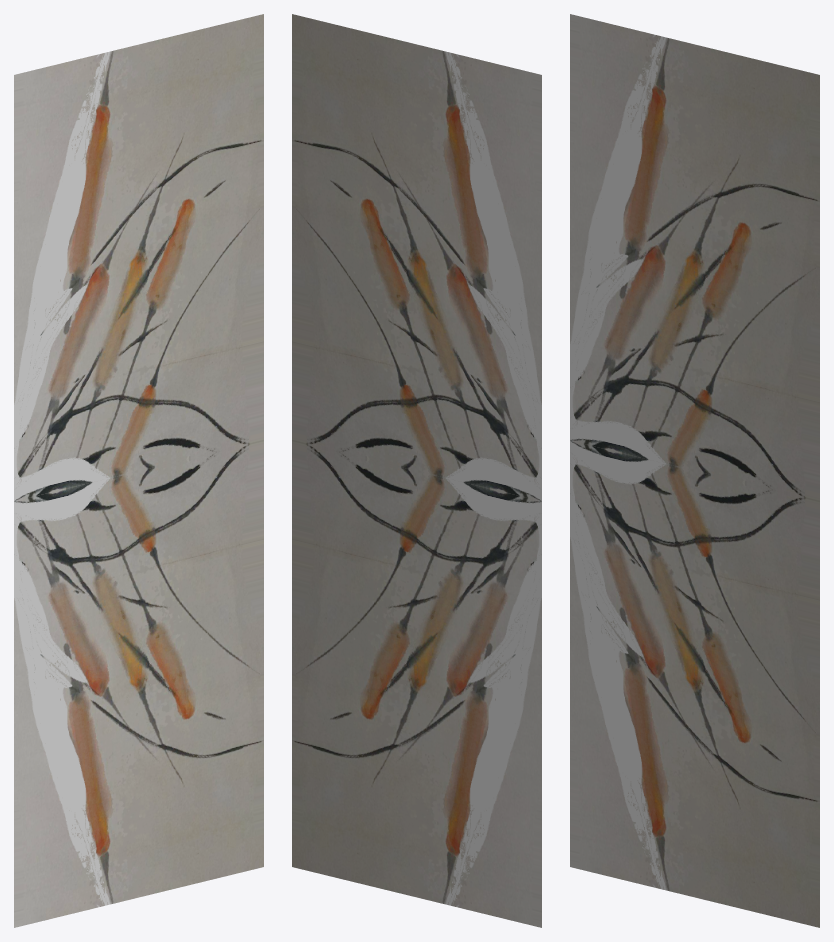
Rendered from PPX_REED6.fbx.
The picture shows the model from 3 angles, left to right: view 1: azimuth 30°, elevation 25°; view 2: azimuth 150°, elevation 25°; view 3: azimuth 330°, elevation 25°; orthographic projection.
Parts seen in each view (by area): view 1: 图层 14.png, 图层 14.png_2; view 2: 图层 14.png, 图层 14.png_2; view 3: 图层 14.png, 图层 14.png_2.
Boxes of the visible parts, x1,y1,x2,y2 form: 图层 14.png: (14,14,263,501); 图层 14.png_2: (14,440,263,927); 图层 14.png: (292,14,541,501); 图层 14.png_2: (292,440,541,927); 图层 14.png: (570,14,819,501); 图层 14.png_2: (570,440,819,927).
Bounding box in the file's own units: 65.43 × 0 × 214.
1 material, 1 textured.
